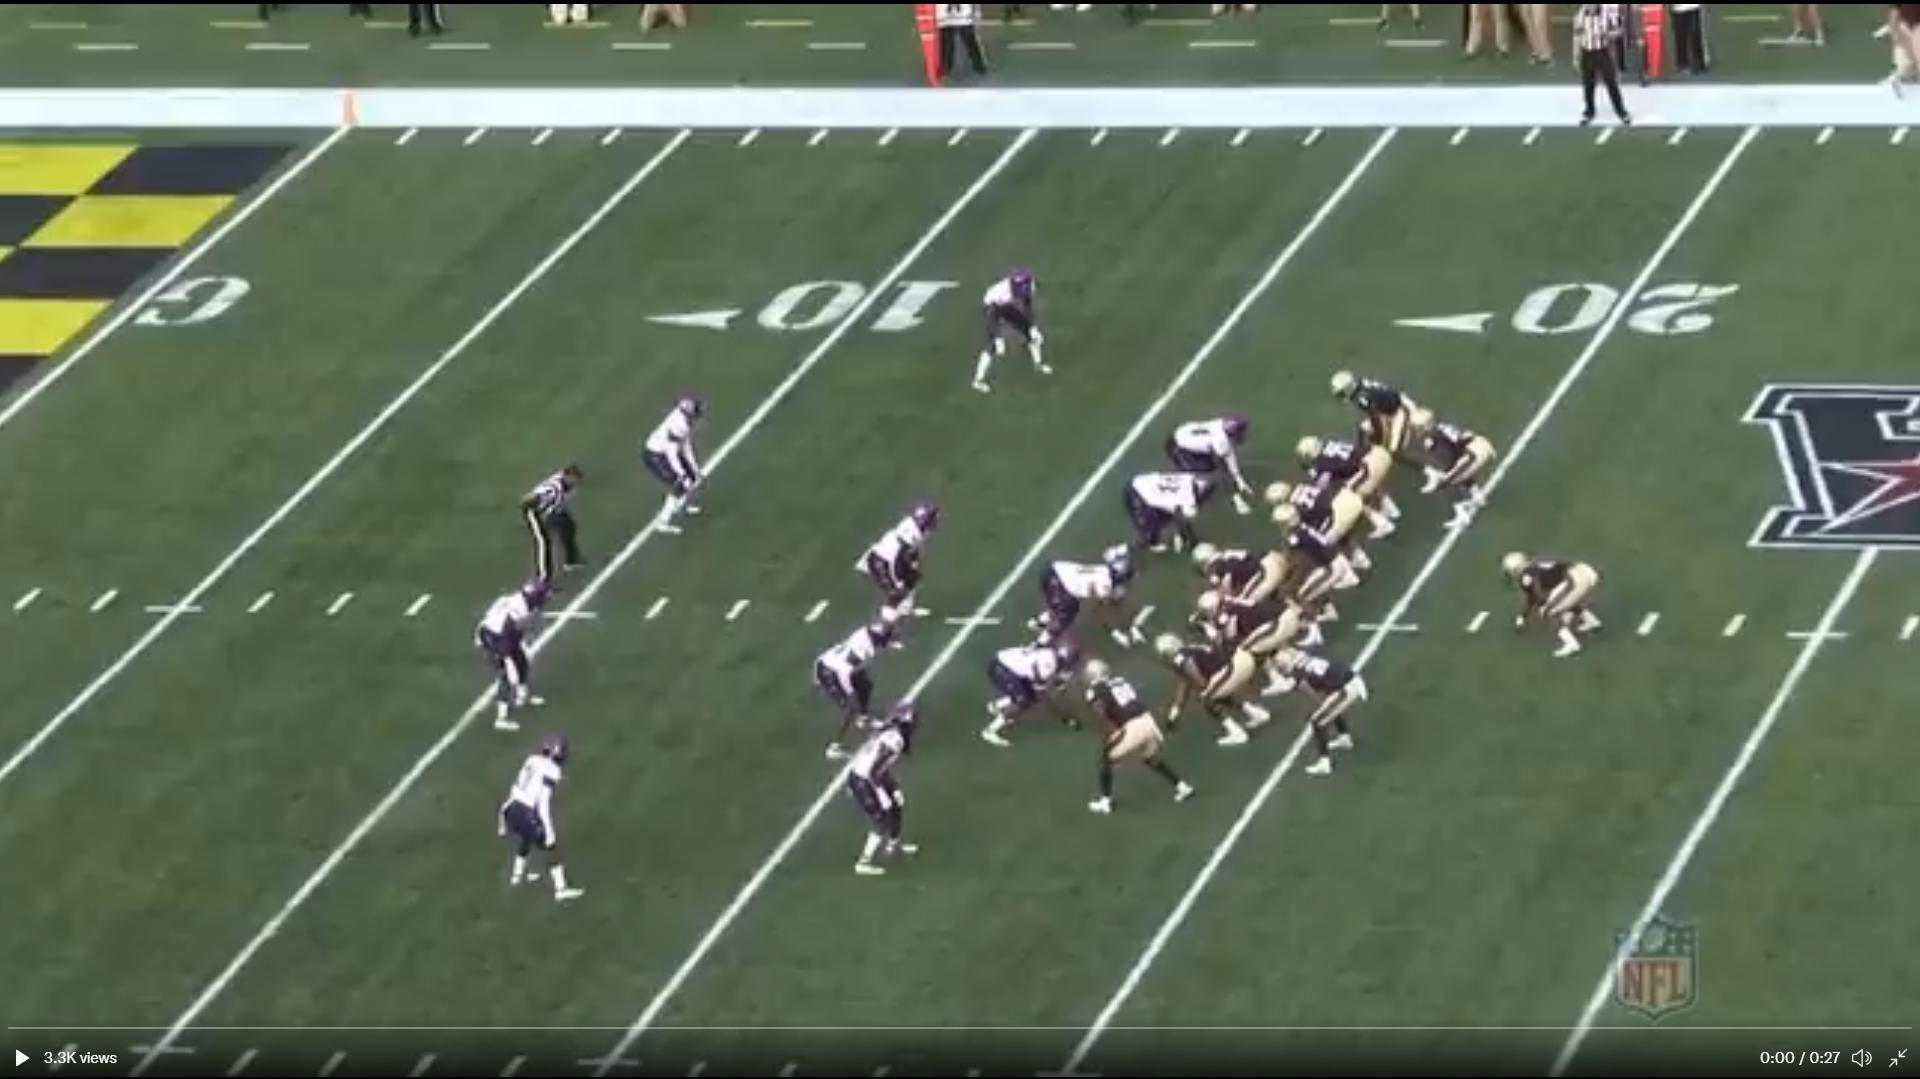player: (1075, 653, 1192, 820), (506, 733, 588, 914), (1155, 628, 1271, 754), (809, 610, 903, 763), (847, 699, 925, 875), (1284, 633, 1373, 787), (967, 253, 1056, 403), (1332, 367, 1441, 486), (1296, 431, 1405, 549), (859, 490, 944, 641), (1024, 551, 1144, 656), (473, 571, 549, 730), (1498, 545, 1601, 659), (1197, 577, 1294, 697), (983, 636, 1086, 749), (645, 386, 718, 540), (1273, 501, 1353, 640), (1417, 407, 1500, 539), (1158, 411, 1257, 514), (1120, 471, 1215, 567), (1263, 475, 1349, 548), (1196, 545, 1288, 608)
ref: (525, 459, 591, 586), (1569, 8, 1635, 130)
